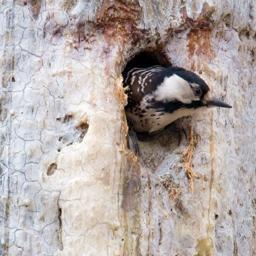Woodpecker: (125, 60, 232, 137)
